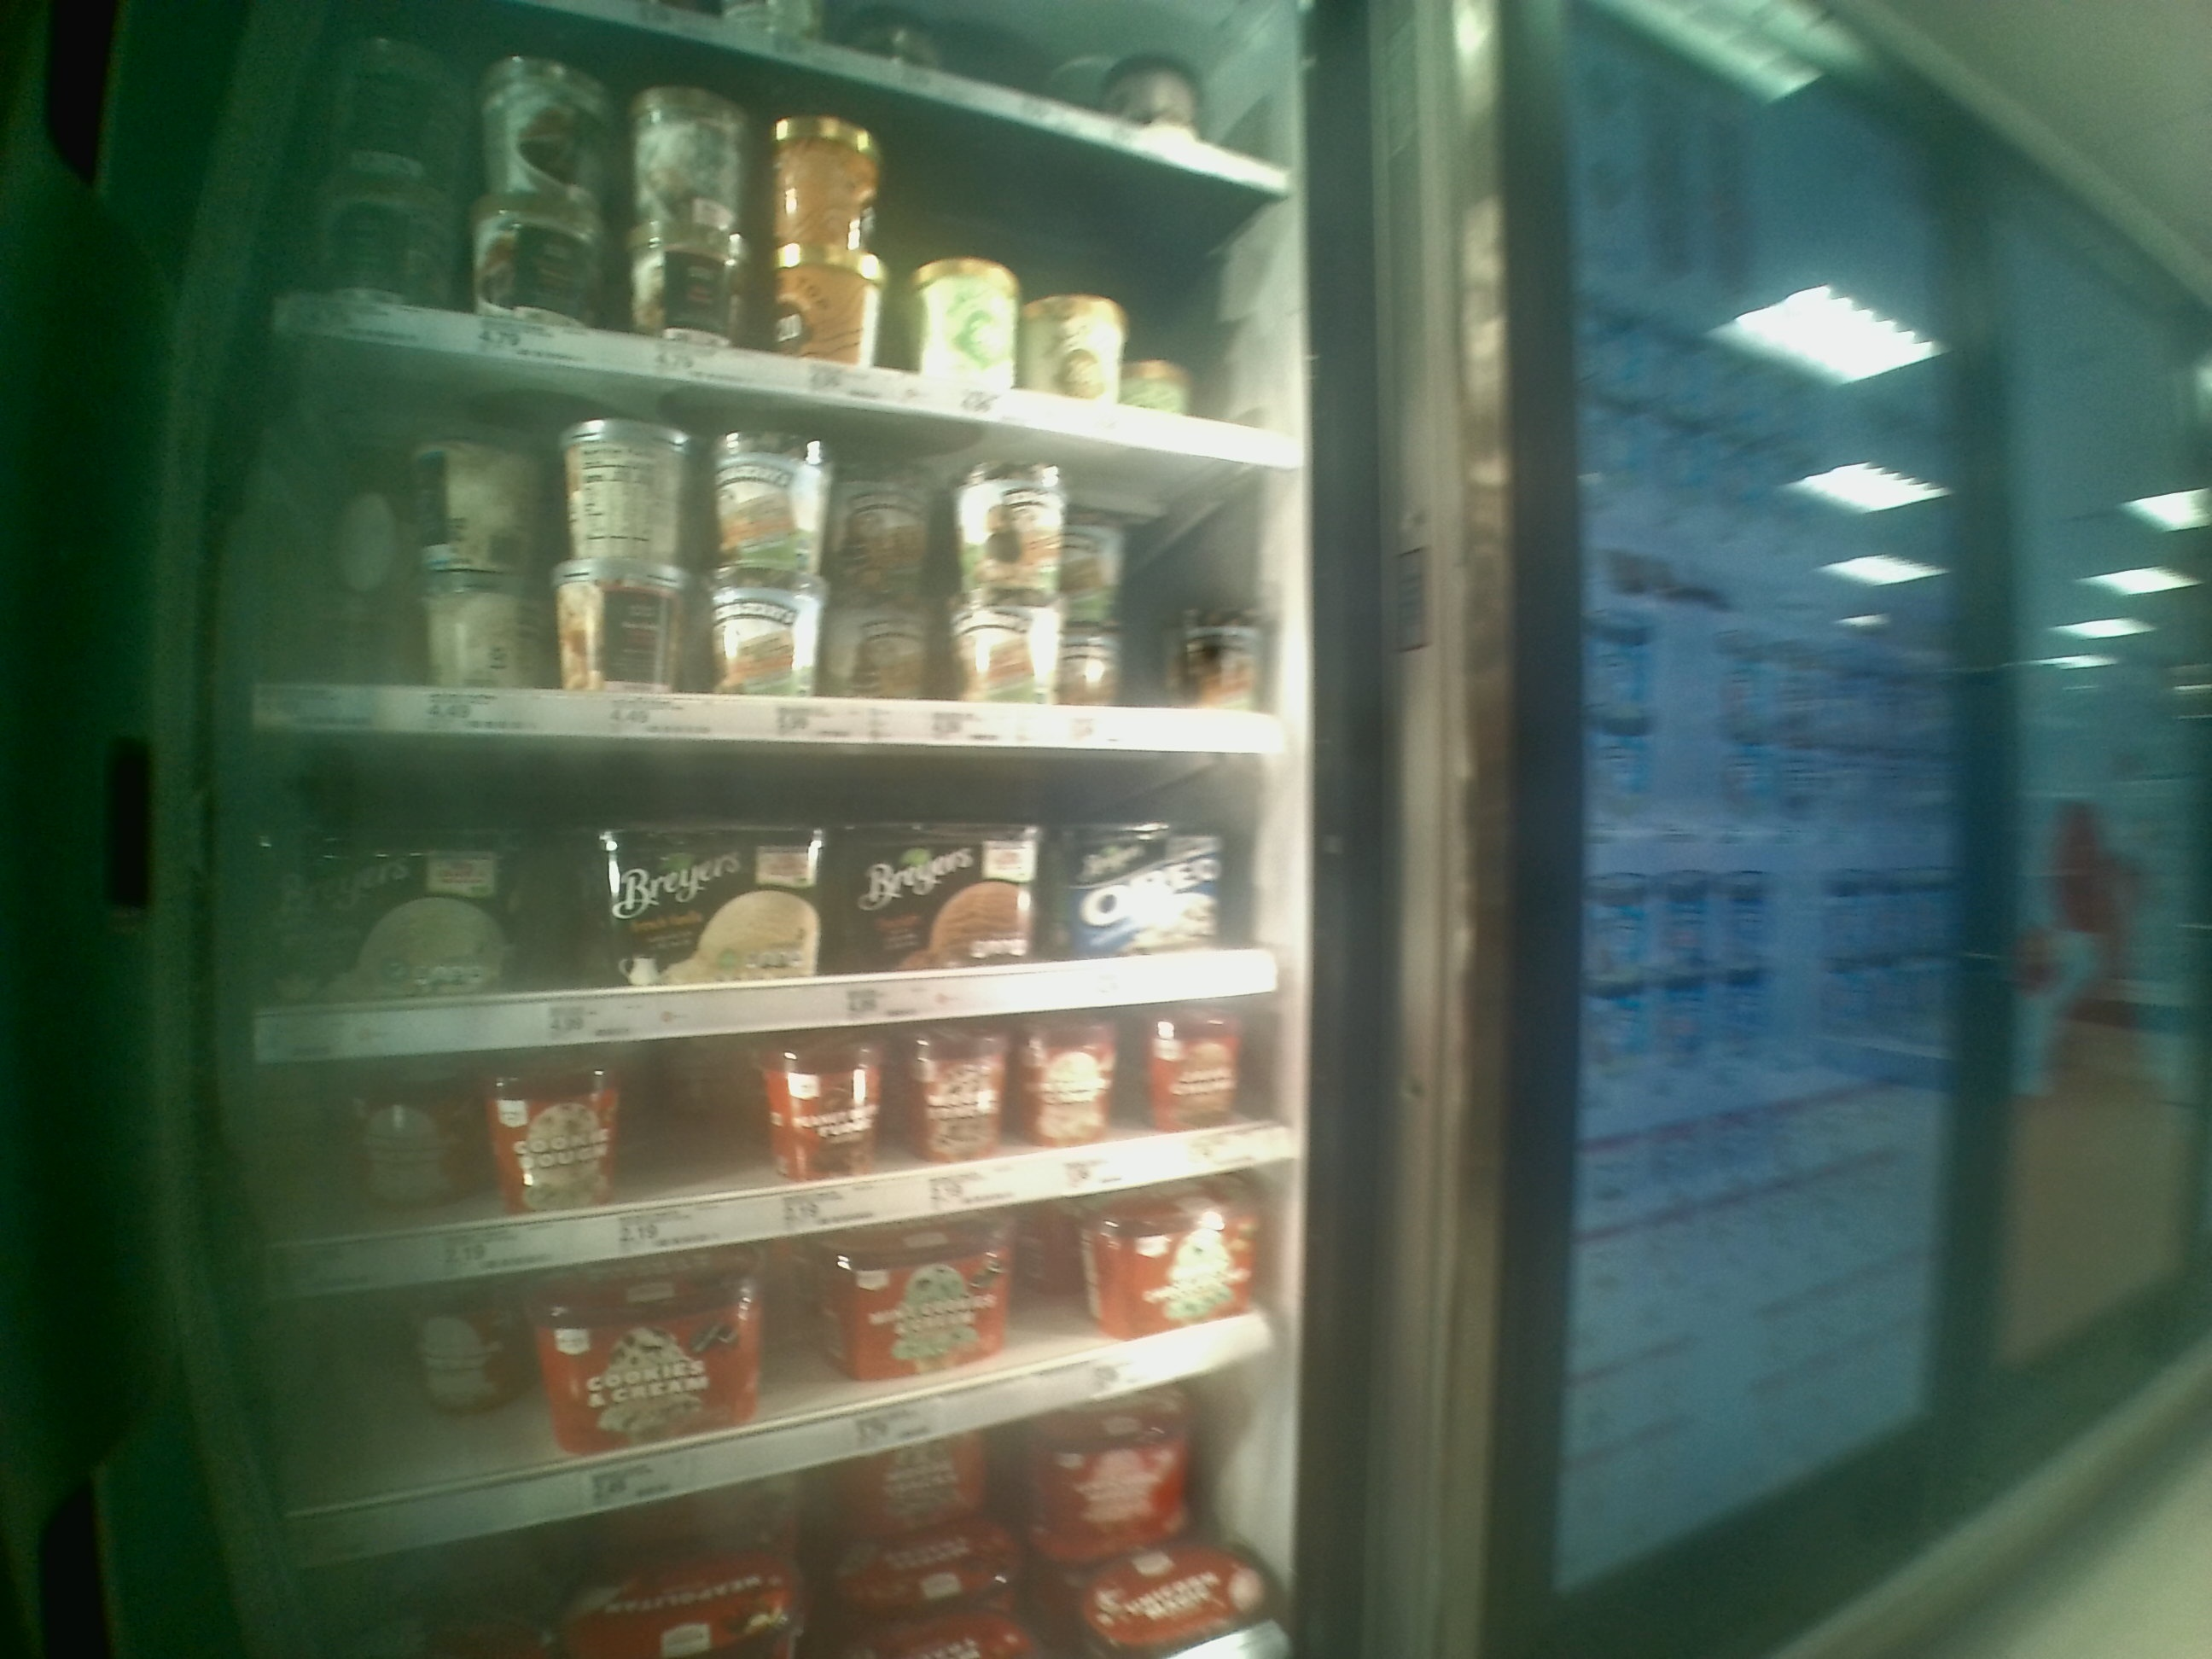shelf: (254, 328, 1308, 767), (256, 985, 1303, 1319), (256, 739, 1308, 1068)
